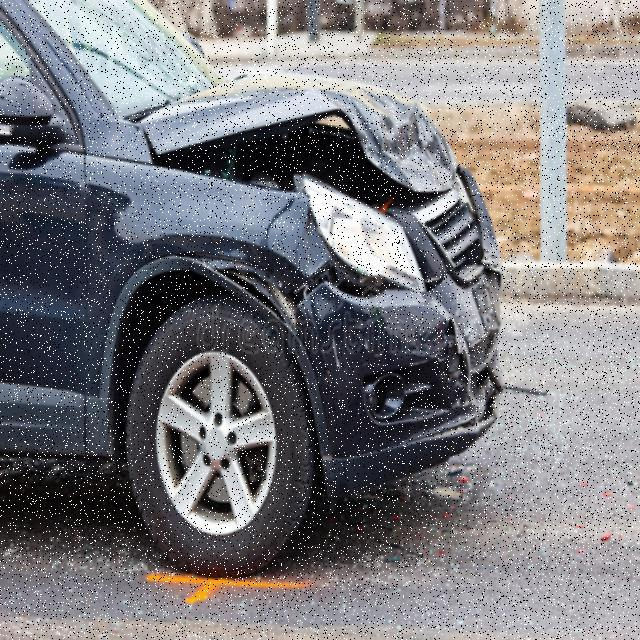car damage: (140, 53, 467, 208), (288, 268, 515, 468), (86, 148, 284, 350), (291, 167, 432, 292)
